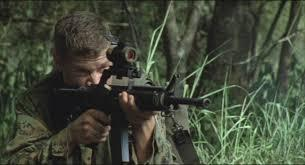rifle: (49, 42, 210, 165)
